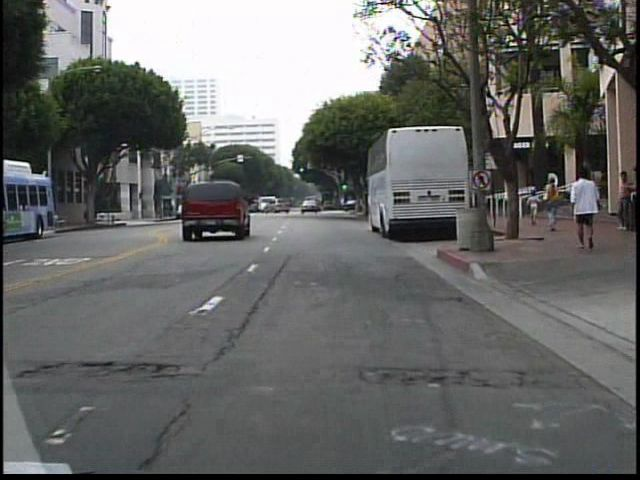person: (569, 166, 603, 252), (614, 166, 632, 236), (543, 175, 563, 237), (526, 192, 542, 229)
